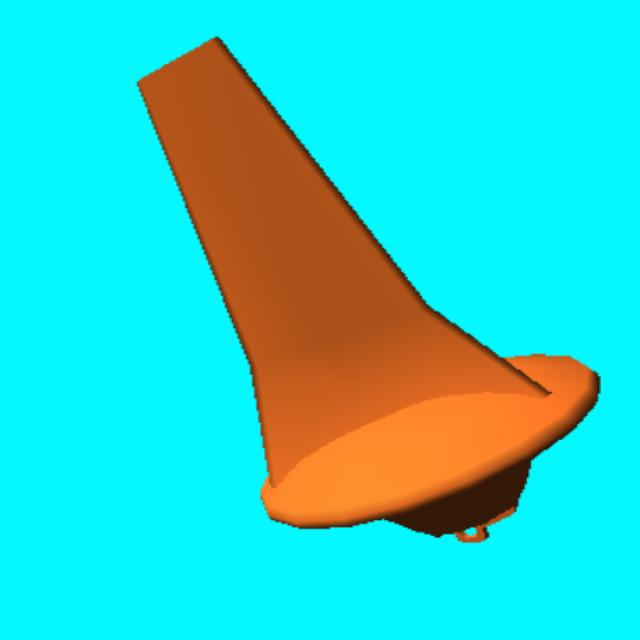OrangeBuoy: (139, 39, 599, 539)
